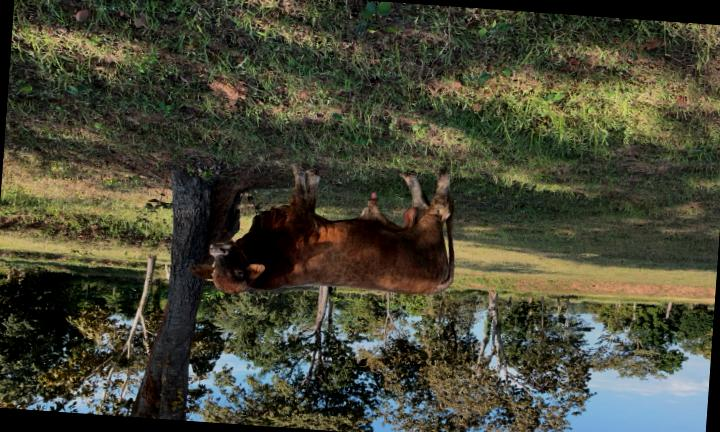Charolais: (189, 165, 454, 294)
